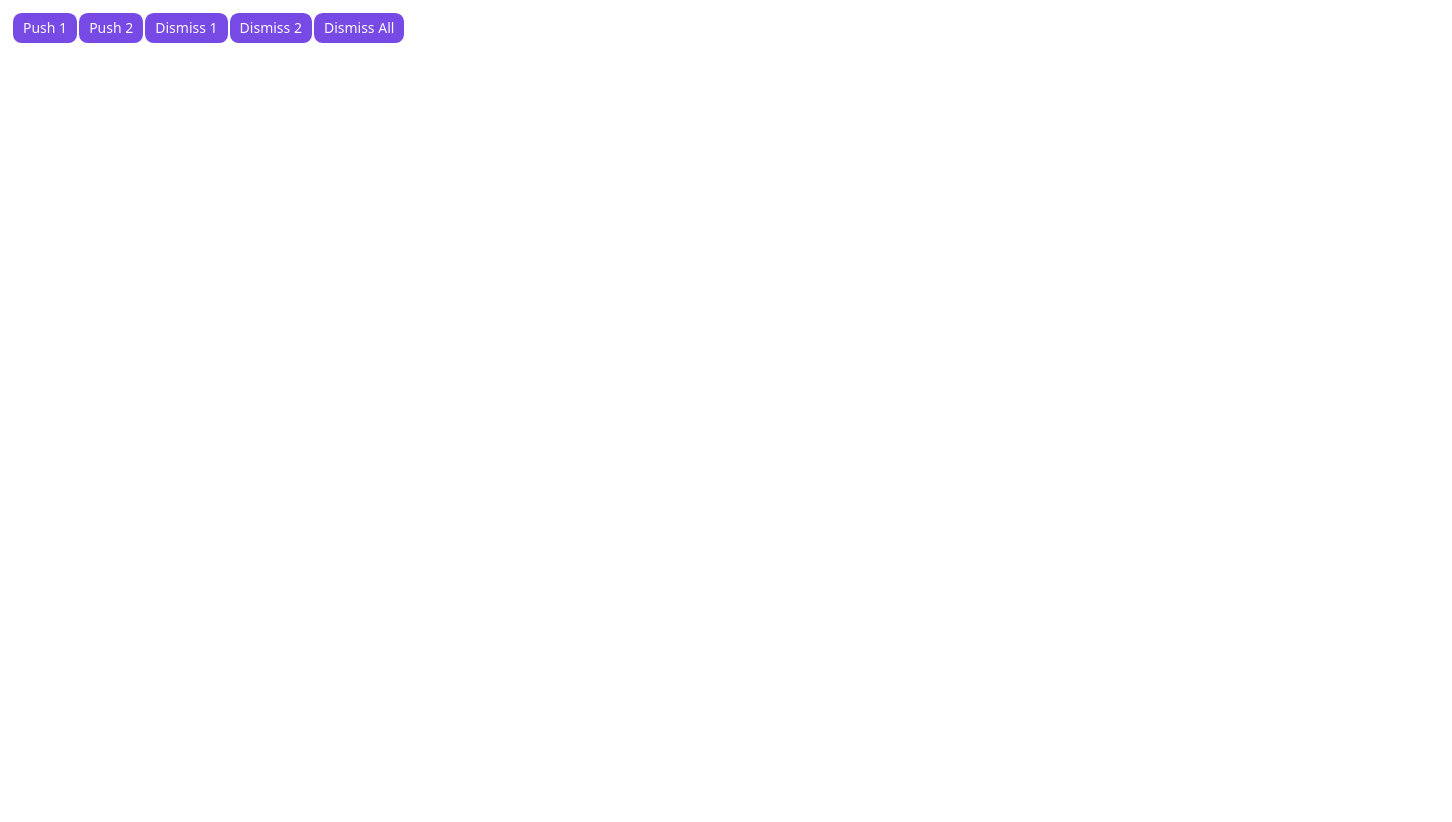
Test: ToastProvider and useToast › renders pushed toasts with title and description
The width and height of the screenshot is (1452, 822).
Click the button "Push 1" at (45, 28), box [12,12,78,44]
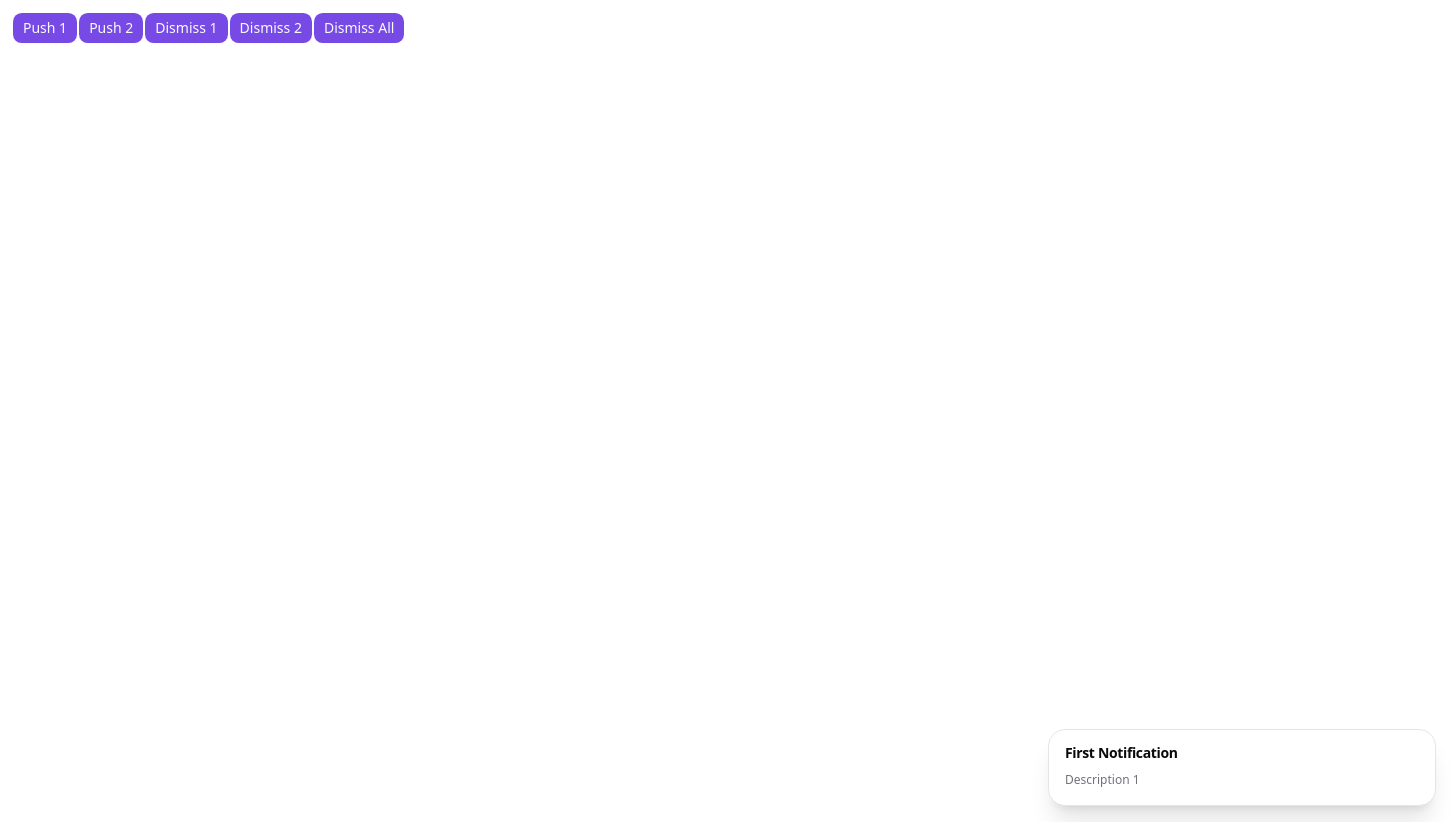
Result: the text "First Notification" is shown at [1065,742,1178,762]
Result: the text "Description 1" is shown at [1065,770,1140,788]
